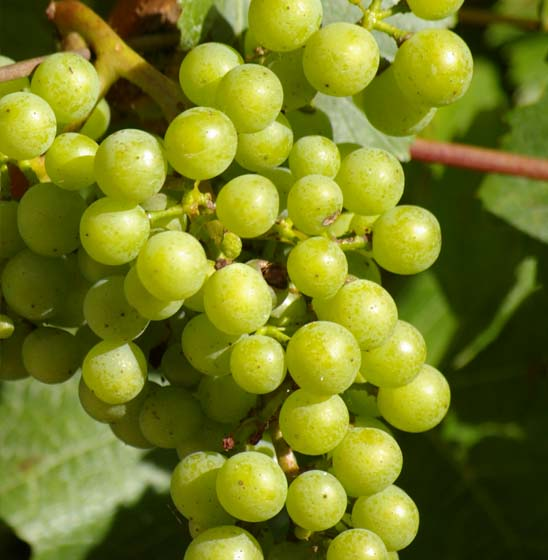Green grapes: (7, 13, 479, 560)
